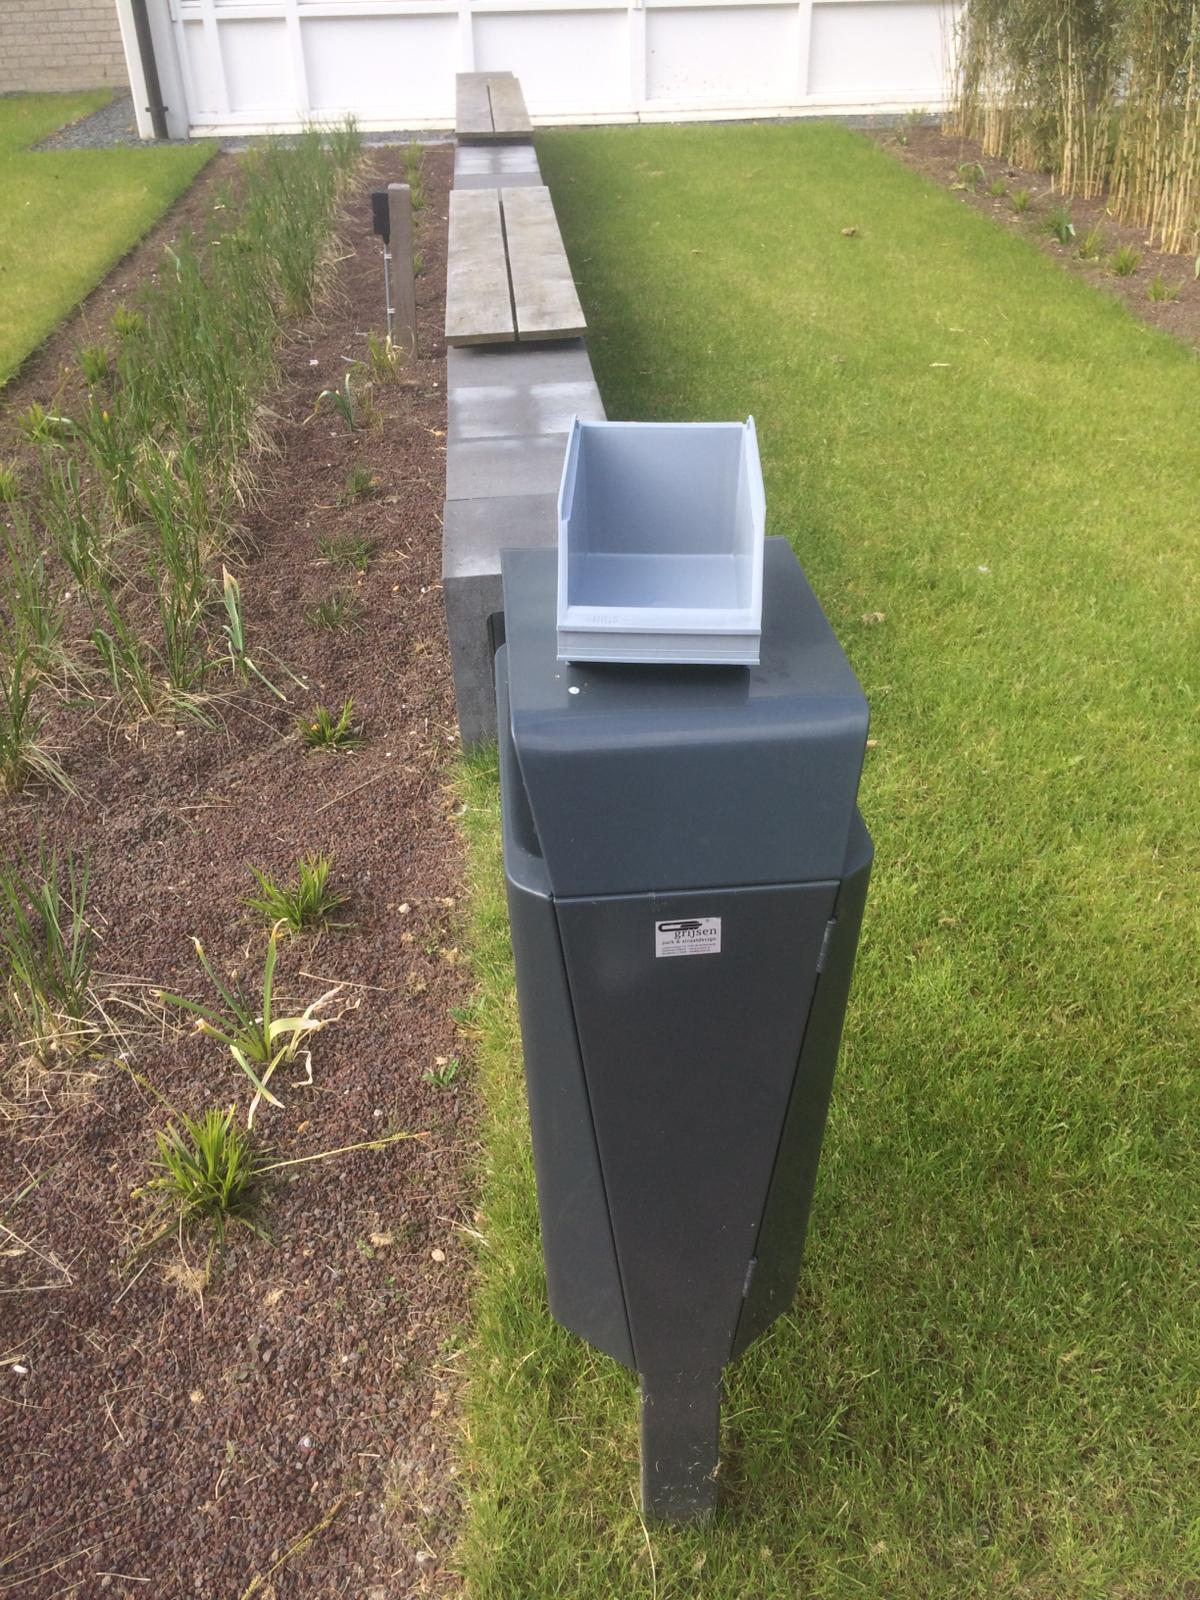tray_front: (550, 420, 764, 675)
